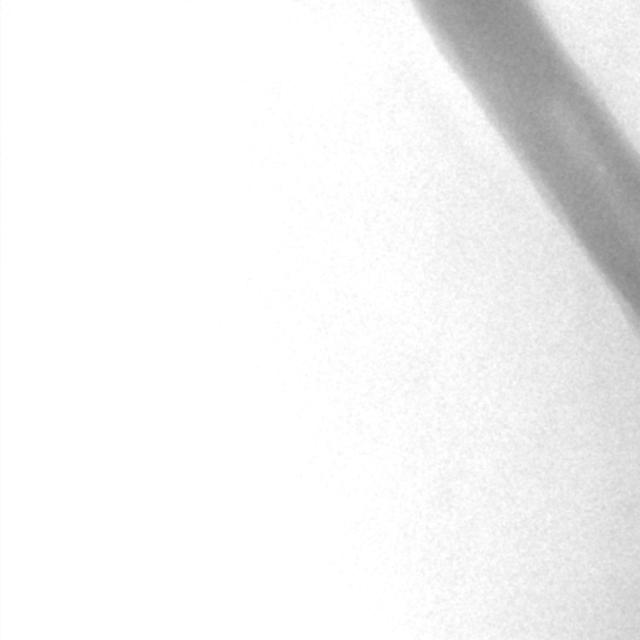air hole: (594, 161, 608, 176)
